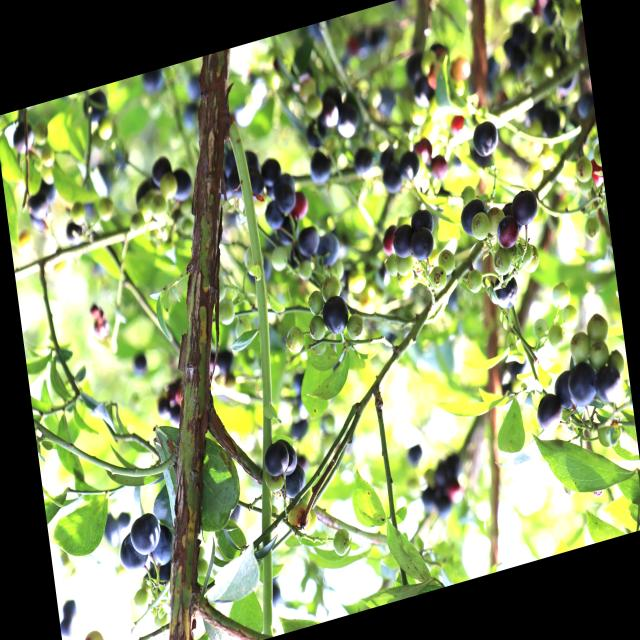blueberry: (127, 508, 163, 558), (458, 191, 493, 238), (319, 292, 353, 340), (511, 181, 542, 230), (469, 117, 502, 163), (117, 536, 150, 578), (148, 526, 179, 568), (568, 364, 598, 407), (550, 368, 578, 413), (536, 393, 565, 435), (594, 363, 623, 404), (390, 224, 418, 266), (313, 229, 341, 271), (264, 438, 291, 480), (494, 277, 521, 316), (149, 153, 177, 189), (350, 144, 377, 179), (297, 225, 322, 259), (382, 160, 405, 196), (411, 228, 435, 262), (260, 157, 284, 191), (308, 150, 332, 184), (411, 208, 436, 240), (264, 200, 287, 234), (336, 107, 359, 140), (283, 473, 307, 504), (172, 167, 192, 203), (320, 96, 342, 128), (280, 441, 298, 476), (277, 219, 298, 248), (401, 152, 420, 182), (277, 187, 297, 215)
blueberry-unripe: (549, 279, 573, 312), (585, 312, 609, 345), (331, 525, 353, 559), (486, 204, 507, 239), (568, 331, 590, 363), (284, 324, 306, 356), (512, 240, 535, 270), (587, 339, 610, 369), (319, 272, 342, 302), (470, 211, 491, 243), (345, 310, 366, 342), (521, 243, 541, 276), (437, 246, 457, 277), (393, 250, 415, 278), (428, 263, 448, 293), (216, 297, 236, 327), (301, 506, 320, 537), (574, 154, 593, 184), (582, 216, 602, 244), (560, 303, 580, 331), (466, 267, 484, 297), (546, 322, 566, 349), (531, 315, 551, 342), (307, 315, 327, 342), (307, 288, 326, 316), (493, 248, 513, 274), (96, 196, 115, 223), (395, 270, 416, 294), (150, 194, 168, 221), (607, 349, 625, 374), (70, 200, 87, 226), (309, 336, 328, 359), (234, 317, 253, 340), (128, 211, 145, 236), (272, 244, 287, 272), (297, 261, 313, 283)
